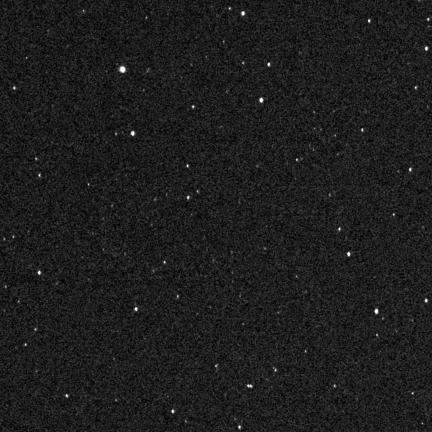blob: (119, 67, 125, 72), (375, 309, 379, 315), (368, 19, 372, 24), (38, 271, 42, 276), (409, 168, 413, 173), (425, 46, 428, 51), (131, 131, 134, 136), (242, 11, 245, 16), (171, 410, 175, 413), (347, 252, 350, 256), (260, 98, 263, 102), (66, 394, 69, 398), (415, 86, 418, 90), (425, 299, 428, 302), (192, 106, 195, 109), (135, 307, 137, 311), (268, 63, 270, 67)
